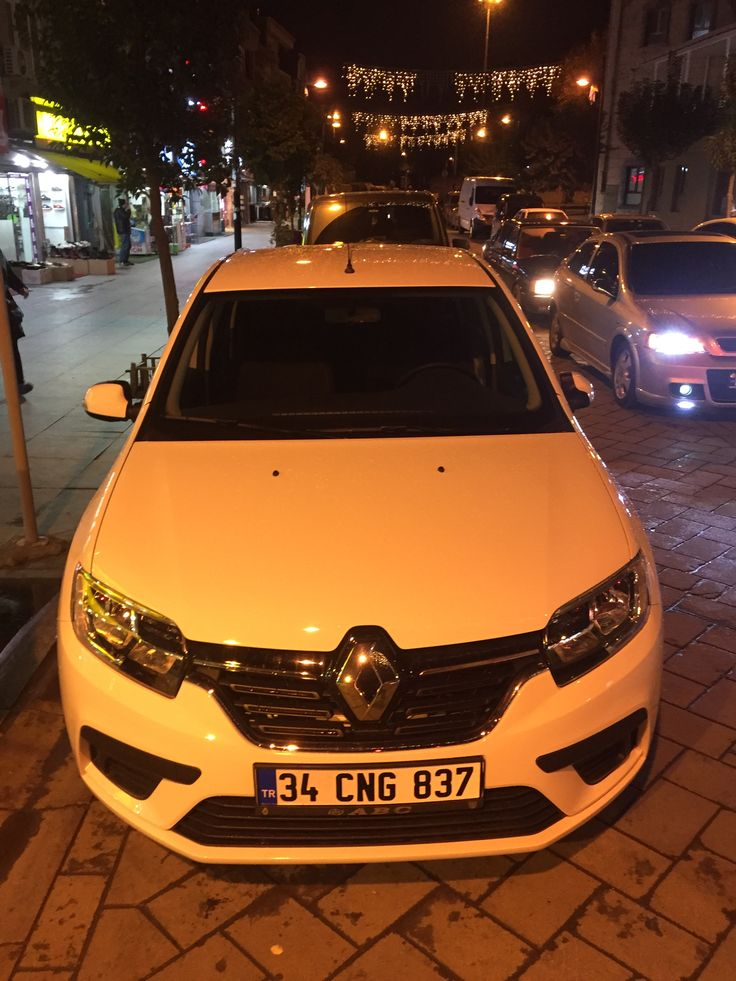plate: (252, 757, 486, 814)
